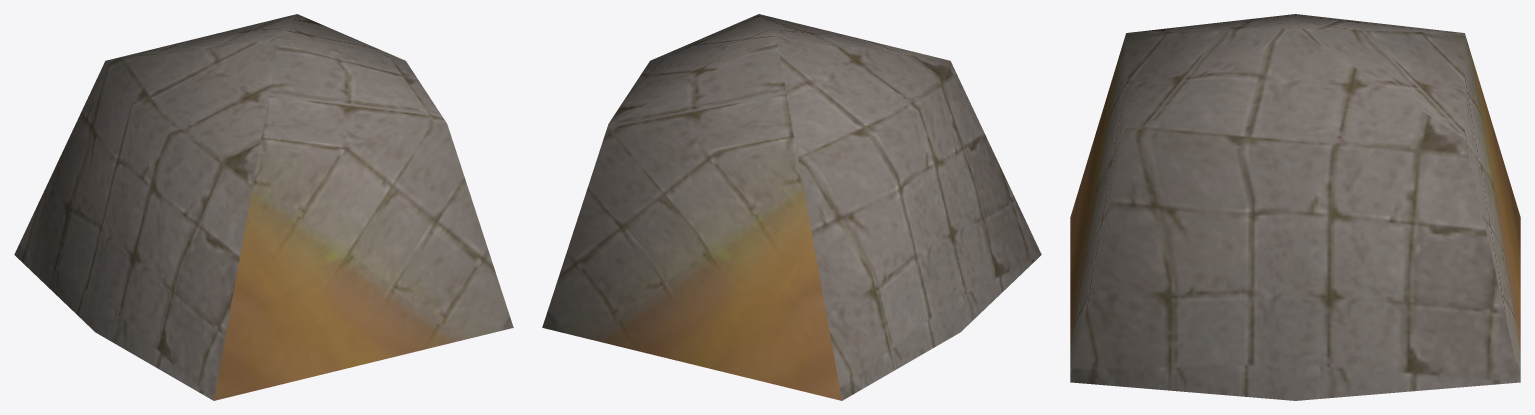
Rendered from map_plain_road11.FBX.
3 renders of one model, left to right at view 1: azimuth 30°, elevation 25°; view 2: azimuth 150°, elevation 25°; view 3: azimuth 270°, elevation 25°, orthographic. The views are drawn at different scales.
Visible parts, largest first — view 1: Object01; view 2: Object01; view 3: Object01.
Part boxes in pixels (bbox=[...]): Object01: bbox=[14, 14, 513, 400]; Object01: bbox=[542, 14, 1041, 400]; Object01: bbox=[1070, 14, 1520, 400].
Size of the model in its own units: 3.68 by 2.48 by 3.62.
